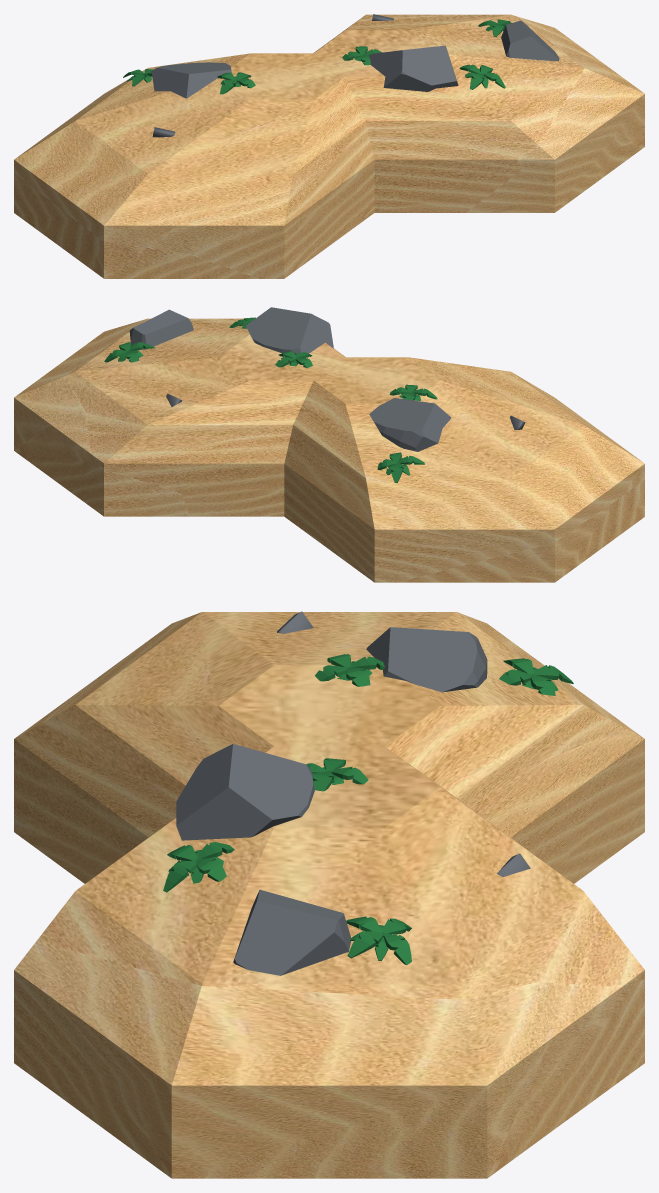
File: average island.glb
The picture shows the model from 3 angles, top to bottom: view 1: azimuth 30°, elevation 25°; view 2: azimuth 150°, elevation 25°; view 3: azimuth 270°, elevation 25°; orthographic projection. The views are drawn at different scales.
Parts seen in each view (by area): view 1: Cylinder.003, Sphere.001, Sphere.008, Sphere.007, TREE.012, TREE.013, TREE.015; view 2: Cylinder.003, Sphere.008, Sphere.001, Sphere.007, TREE.016, TREE.014, TREE.015, TREE.013; view 3: Cylinder.003, Sphere.001, Sphere.007, Sphere.008, TREE.014, TREE.012, TREE.016, TREE.013, TREE.015.
Boxes of the visible parts, bbox=[...] form: Cylinder.003: bbox=[14, 14, 644, 278]; Sphere.001: bbox=[369, 45, 458, 91]; Sphere.008: bbox=[151, 62, 231, 98]; Sphere.007: bbox=[501, 20, 559, 61]; TREE.012: bbox=[459, 64, 505, 89]; TREE.013: bbox=[217, 72, 255, 94]; TREE.015: bbox=[342, 46, 381, 65]; Cylinder.003: bbox=[14, 318, 644, 582]; Sphere.008: bbox=[369, 398, 451, 451]; Sphere.001: bbox=[246, 307, 333, 354]; Sphere.007: bbox=[129, 309, 193, 349]; TREE.016: bbox=[377, 452, 424, 482]; TREE.014: bbox=[104, 342, 154, 362]; TREE.015: bbox=[275, 351, 312, 367]; TREE.013: bbox=[389, 384, 437, 400]; Cylinder.003: bbox=[14, 612, 644, 1178]; Sphere.001: bbox=[176, 744, 314, 840]; Sphere.007: bbox=[233, 889, 350, 975]; Sphere.008: bbox=[366, 627, 487, 692]; TREE.014: bbox=[346, 916, 411, 964]; TREE.012: bbox=[163, 842, 234, 892]; TREE.016: bbox=[499, 658, 573, 695]; TREE.013: bbox=[315, 654, 384, 686]; TREE.015: bbox=[306, 758, 368, 791].
Bounding box in the file's own units: 15.72 × 3.85 × 9.07.
Materials: 3 (1 with a texture image).
